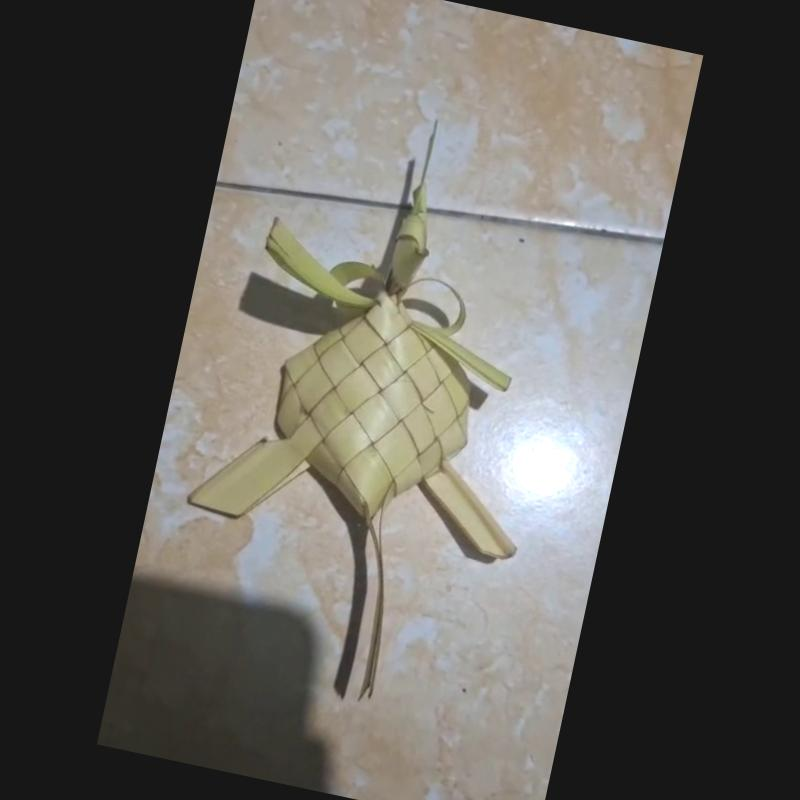Tipat Dampulan: (174, 130, 531, 706)
